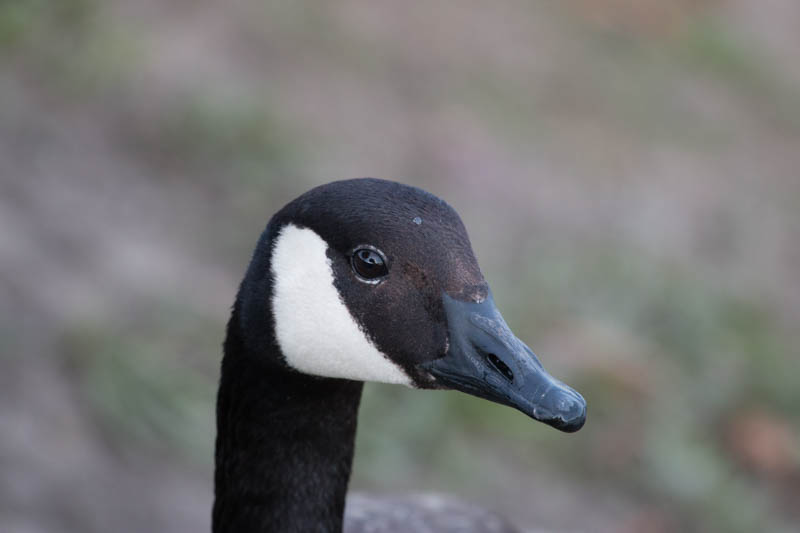goose-head: (215, 177, 586, 433)
